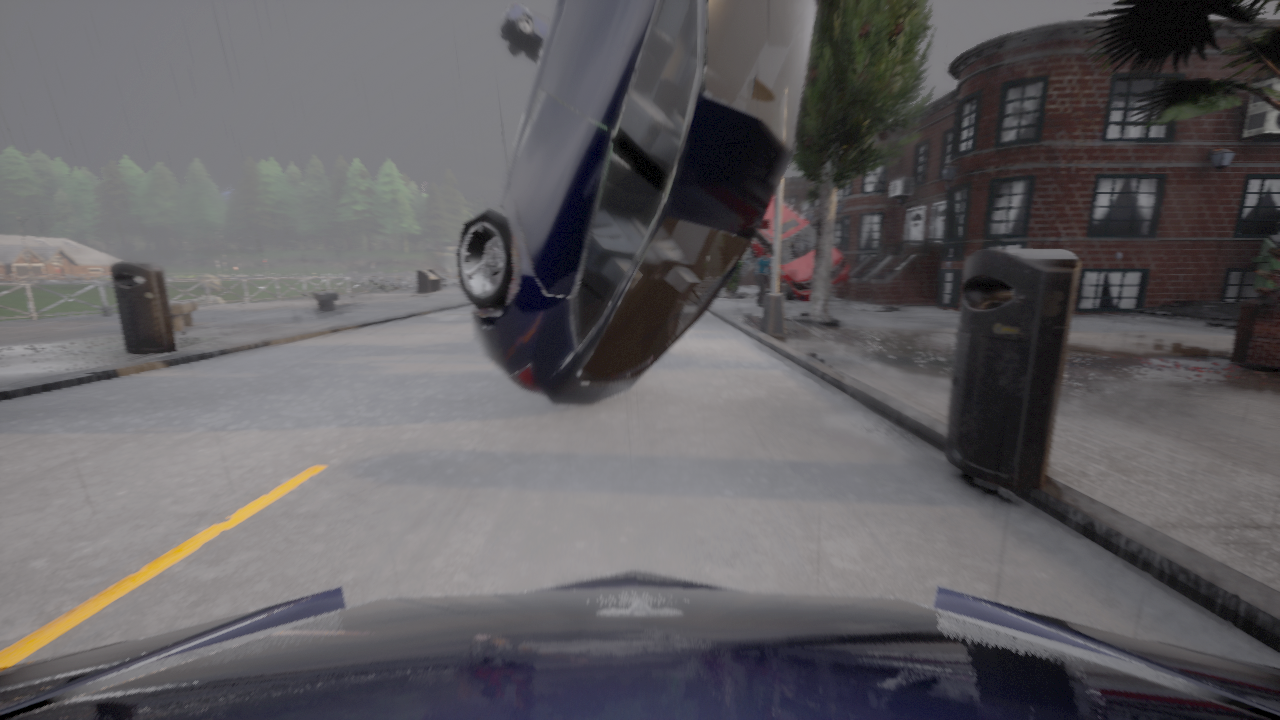cyclist: (0, 569, 1279, 719), (456, 0, 819, 407), (749, 196, 850, 301), (499, 2, 550, 64)
pedestrian: (754, 248, 771, 306)
